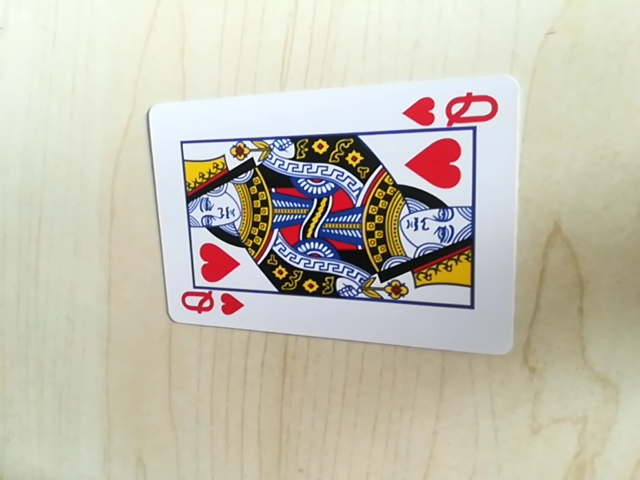hx q: (401, 88, 503, 133), (177, 290, 245, 323)
